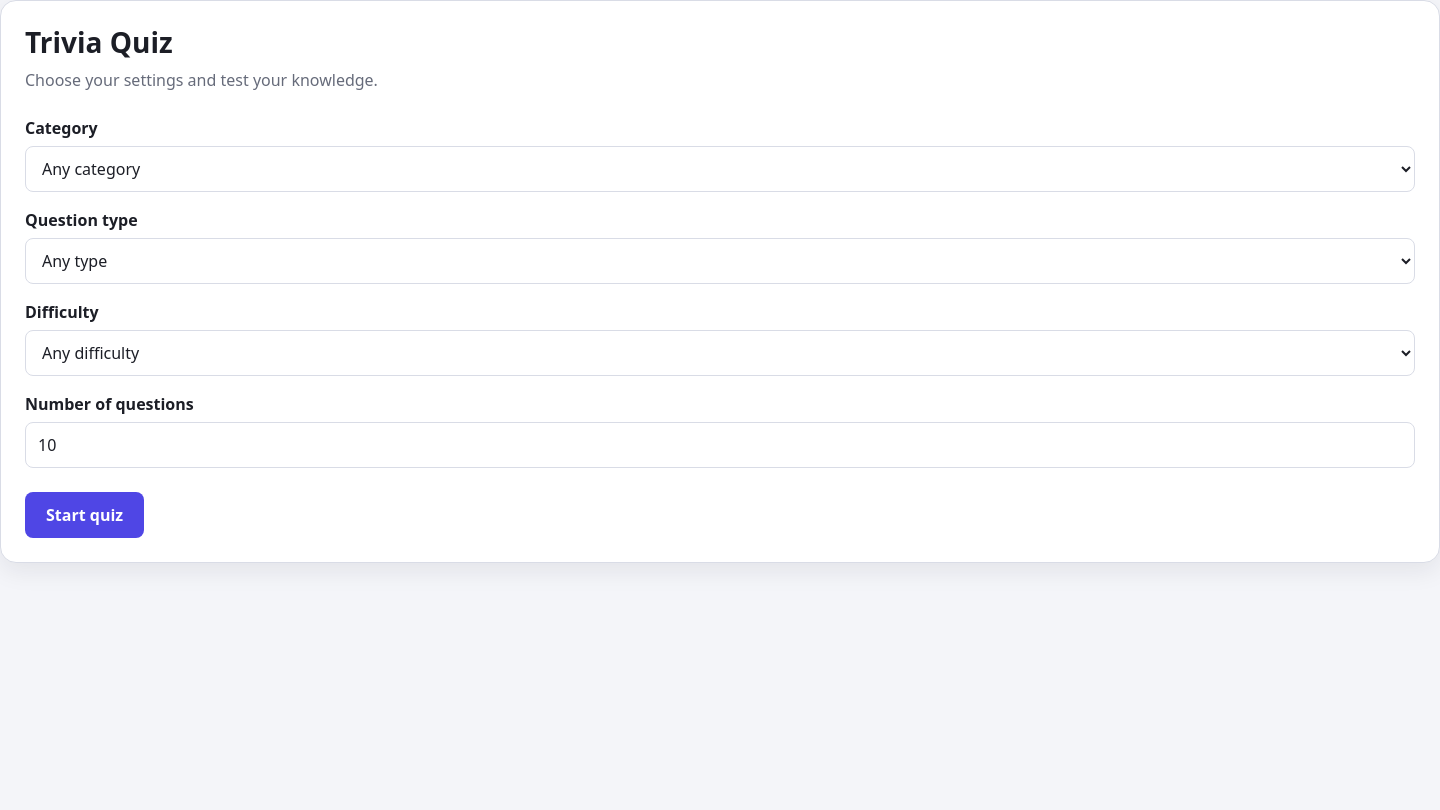
Test: App › sends the selected settings to the api
Step 1. Select "General Knowledge" in the dropdown labelled "Category" → (720, 169), box x1=25 y1=146 x2=1415 y2=192
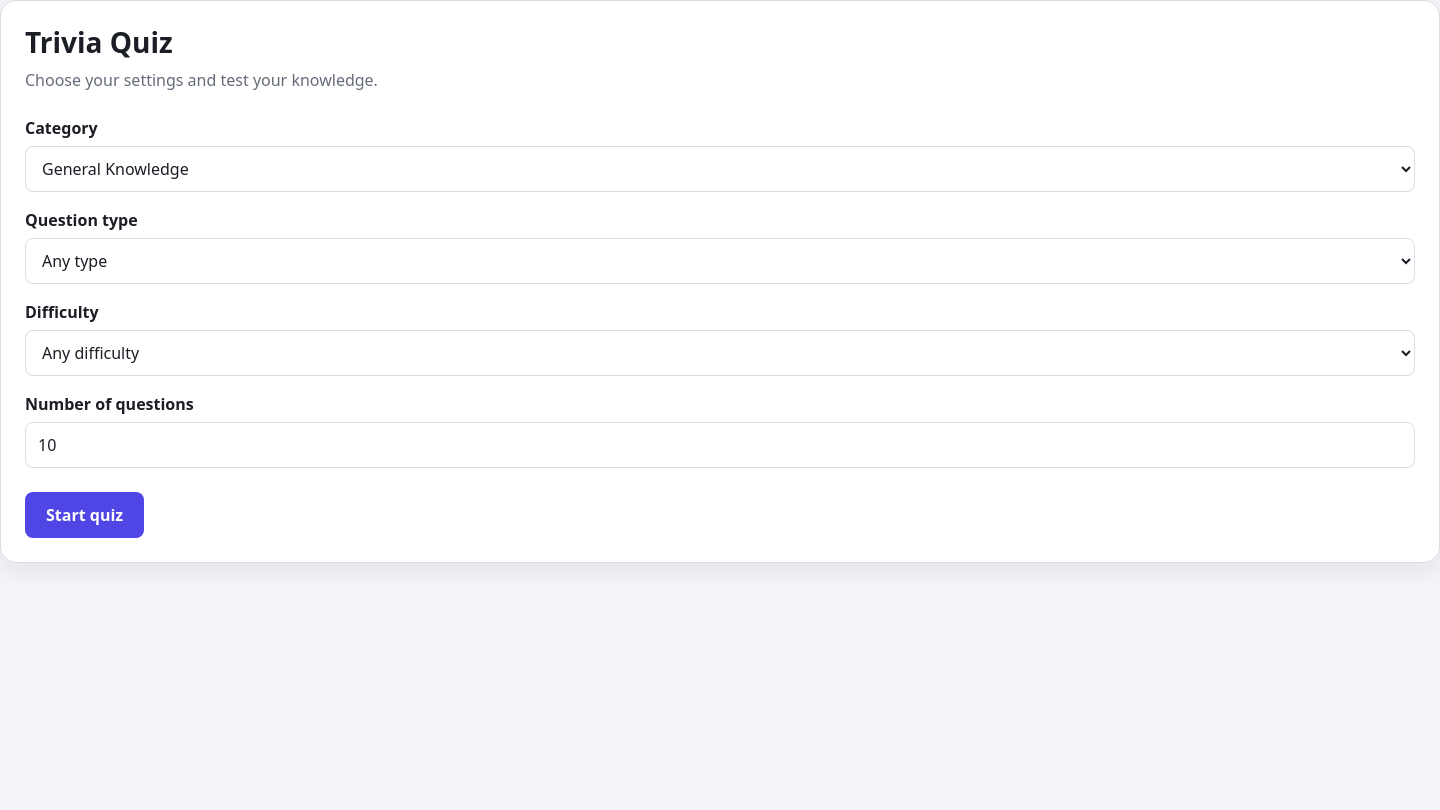
Step 2. Select "Hard" in the dropdown labelled "Difficulty" → (720, 353), box x1=25 y1=330 x2=1415 y2=376
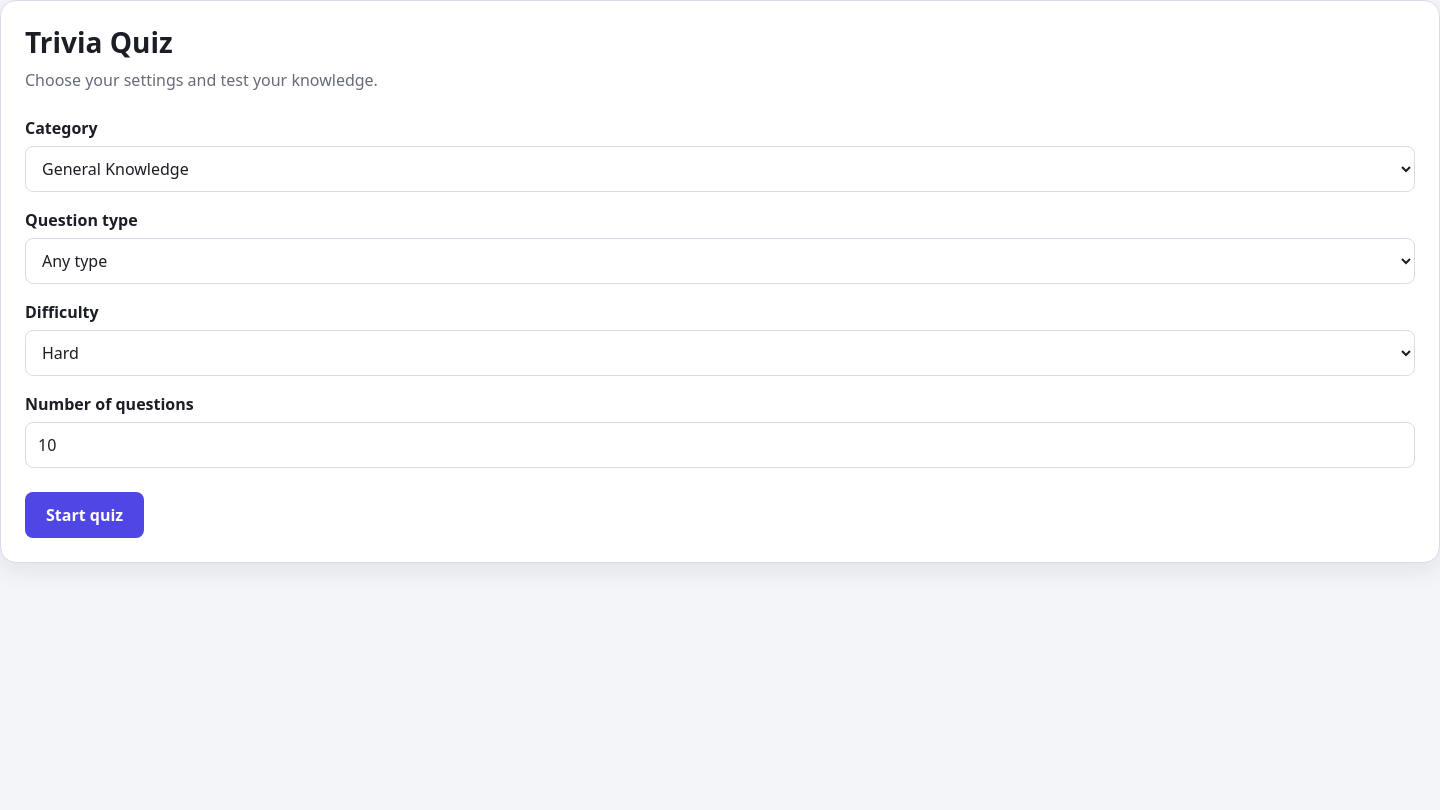
Step 3. Select "Multiple choice" in the dropdown labelled "Question type" → (720, 261), box x1=25 y1=238 x2=1415 y2=284
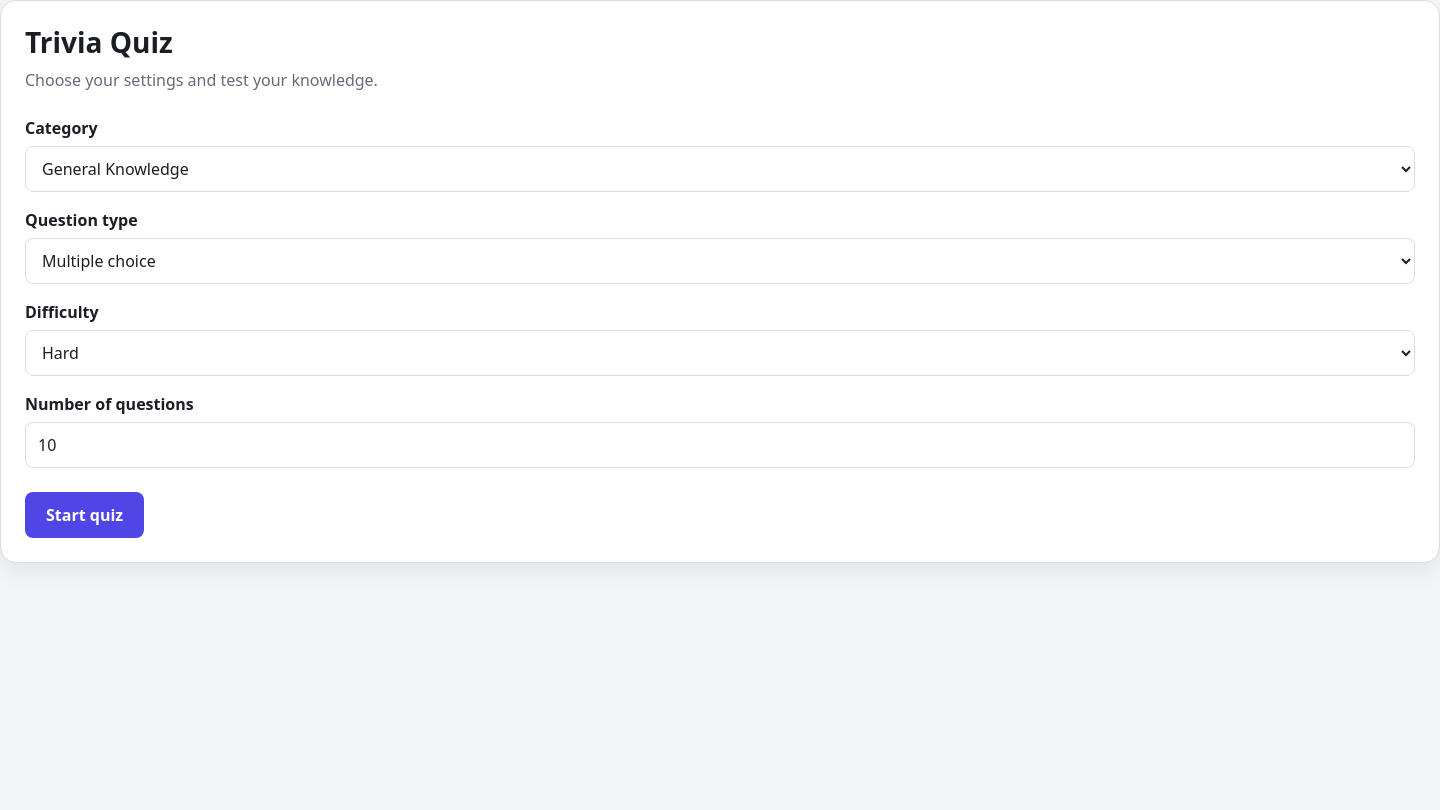
Step 4. Replace the text in the number field labelled "Number of questions" with "2" → (720, 445), box x1=25 y1=422 x2=1415 y2=468
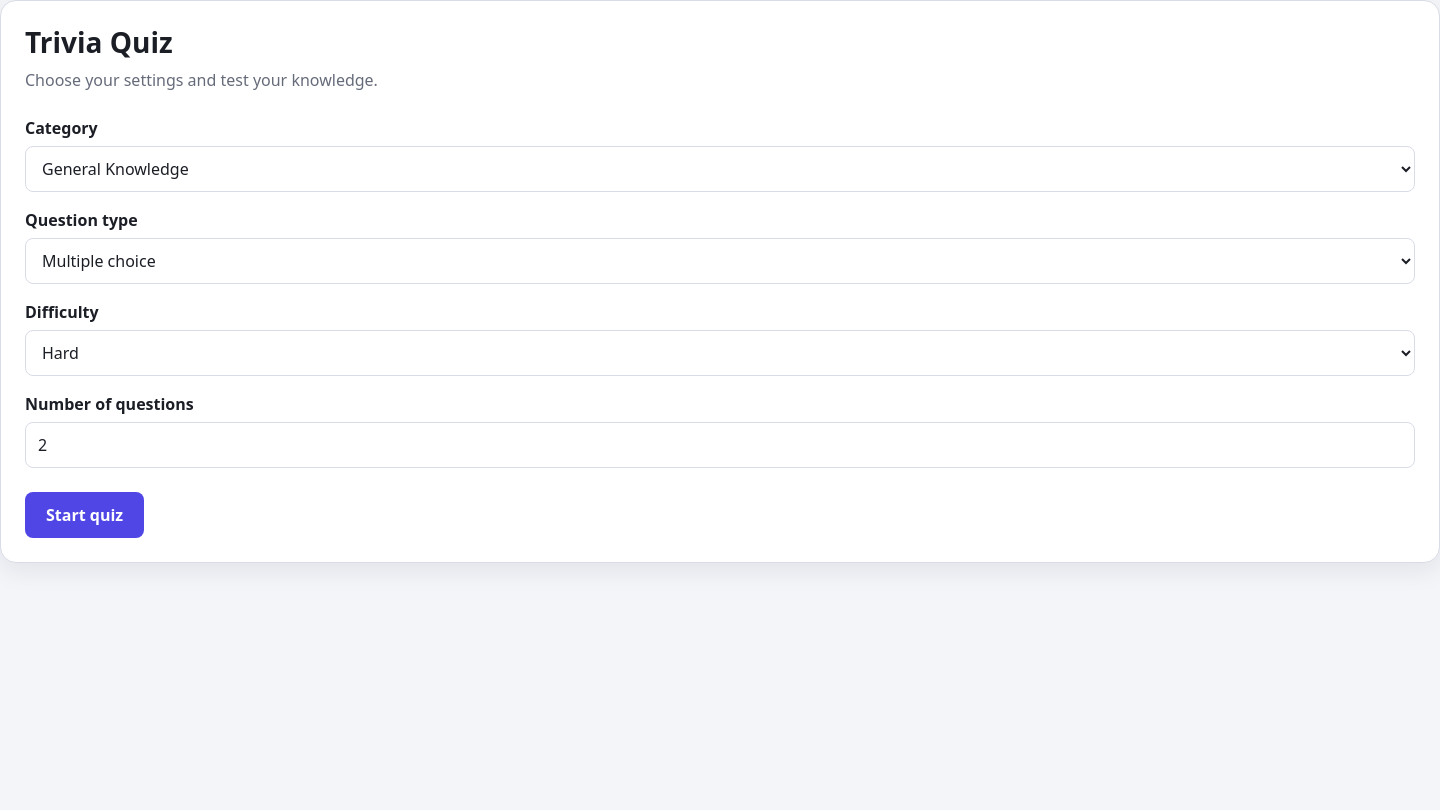
Step 5. Click the button "Start quiz" → click(85, 515), box x1=25 y1=492 x2=144 y2=538
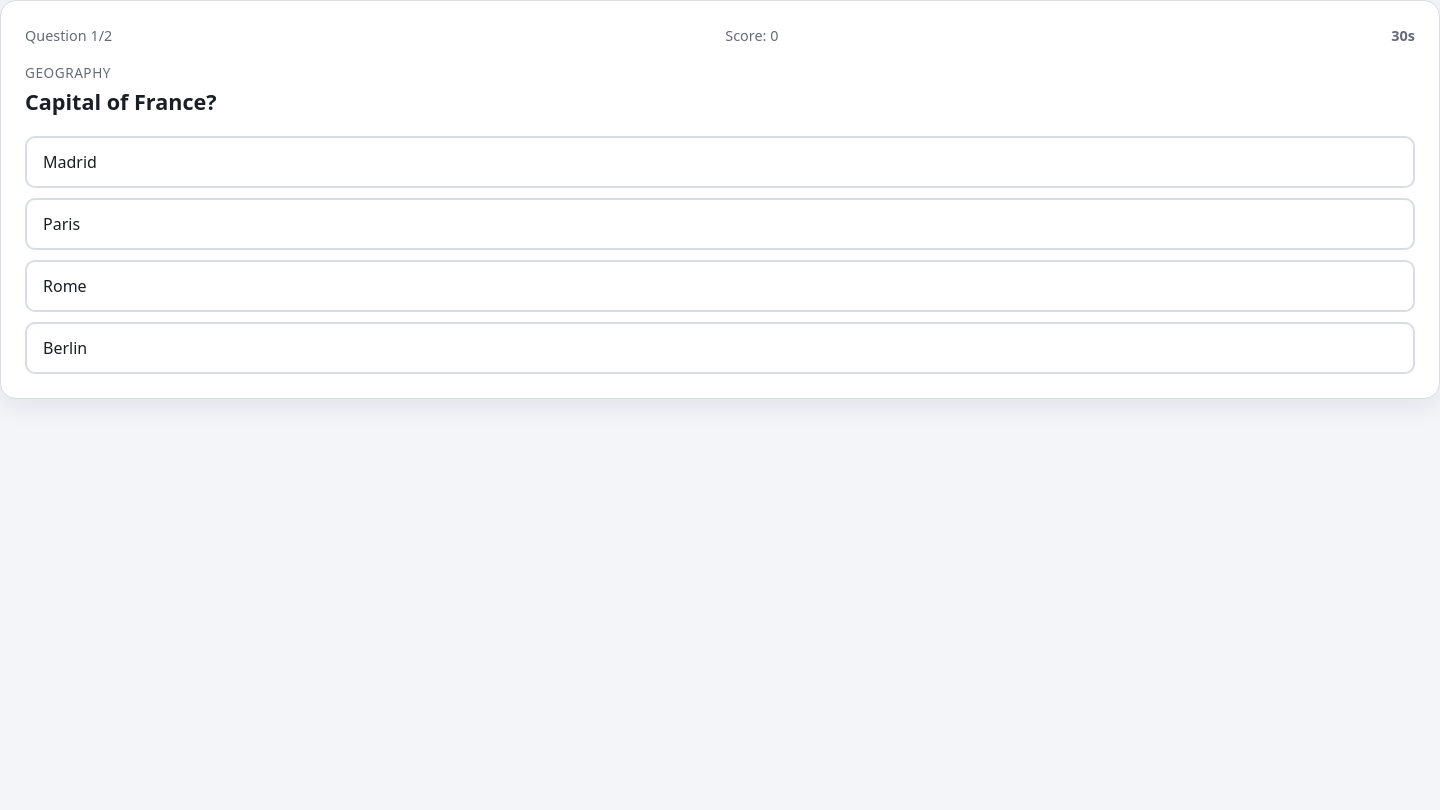
Expected: the heading "Capital of France?" is shown, x1=25 y1=87 x2=217 y2=116
